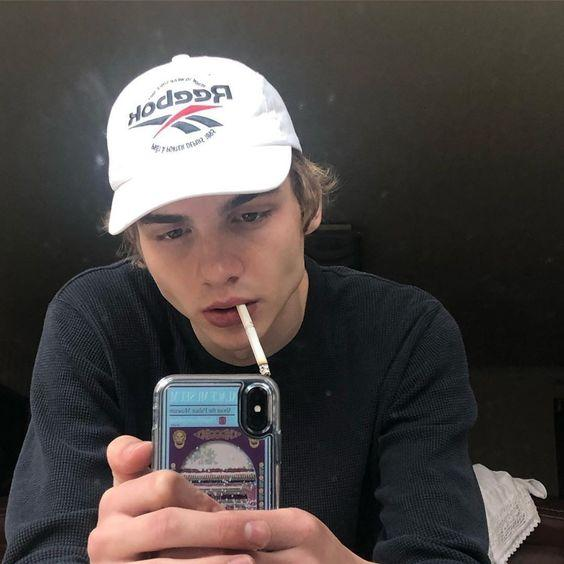cigarette: (235, 303, 271, 376)
